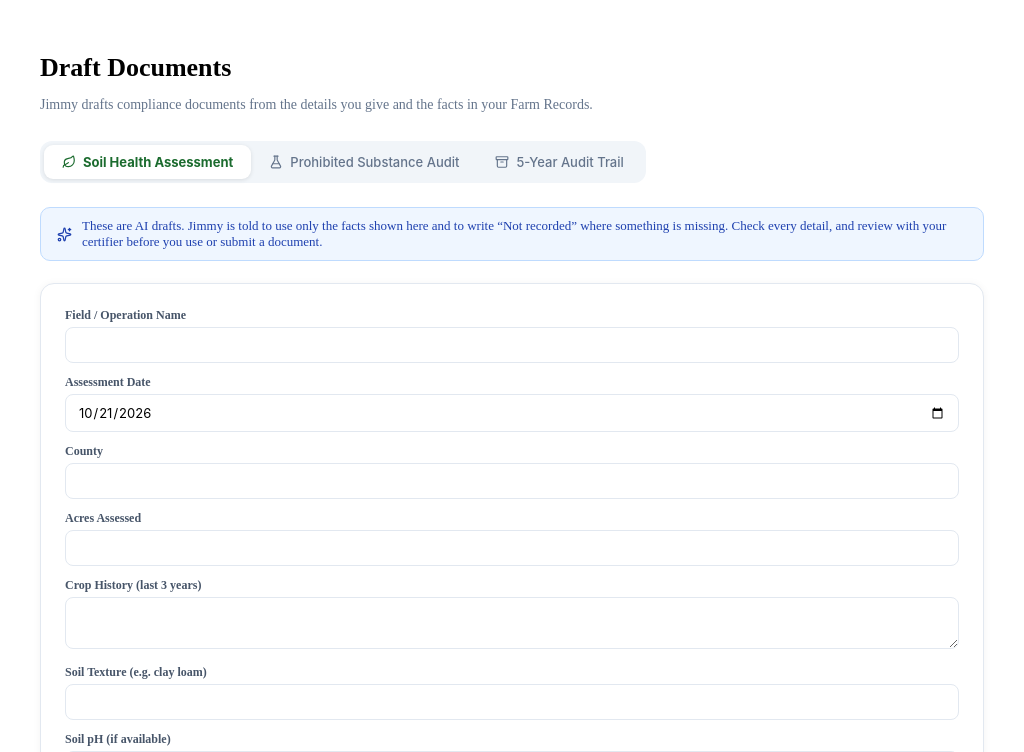
Scenario: Draft Documents › gives the Prohibited Substance Audit the farm’s own materials
Click the button "Prohibited Substance Audit": (364, 162) [251,145,477,179]
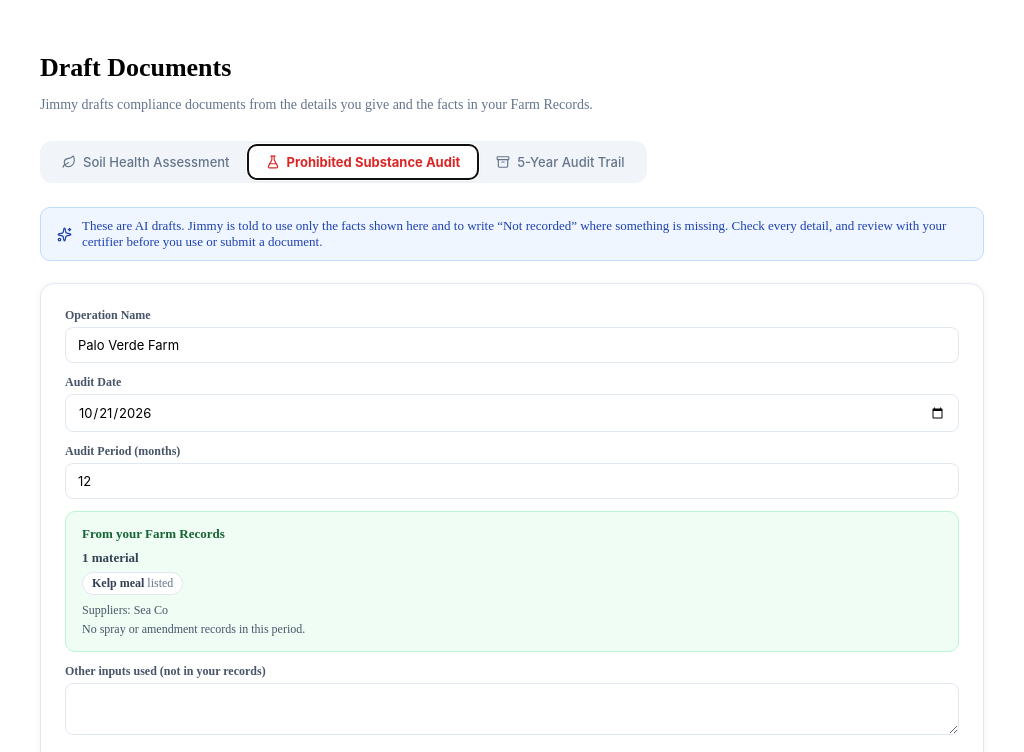
Result: the element "From your Farm Records" shows "Kelp meal" at [92,576,144,590]
